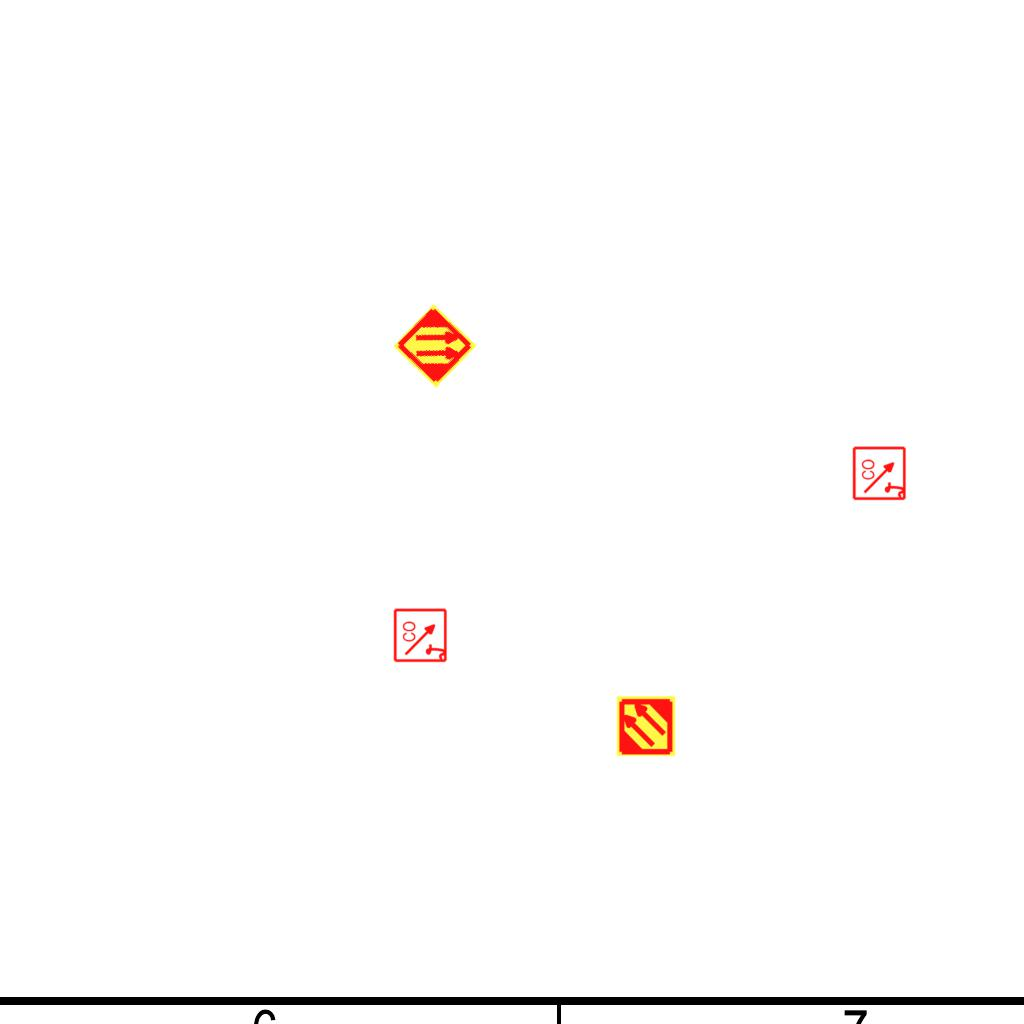ASR_Ansaugrauchmelder: (391, 302, 479, 390), (615, 695, 677, 757)
ROA_Rauchmelder_optisch_mit_Signalgeber_(Sockelsirene): (852, 445, 908, 501), (393, 607, 449, 663)
